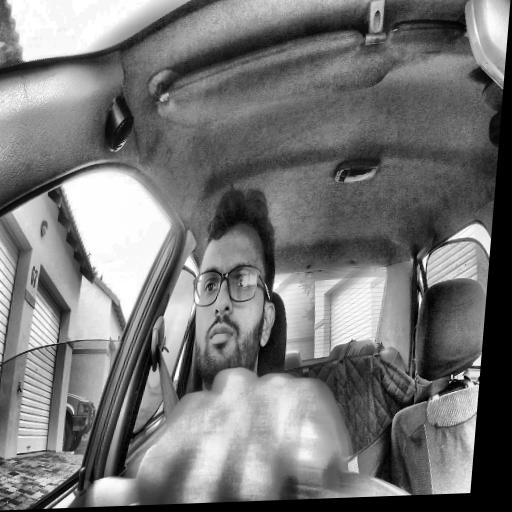awake: (184, 184, 286, 387)
